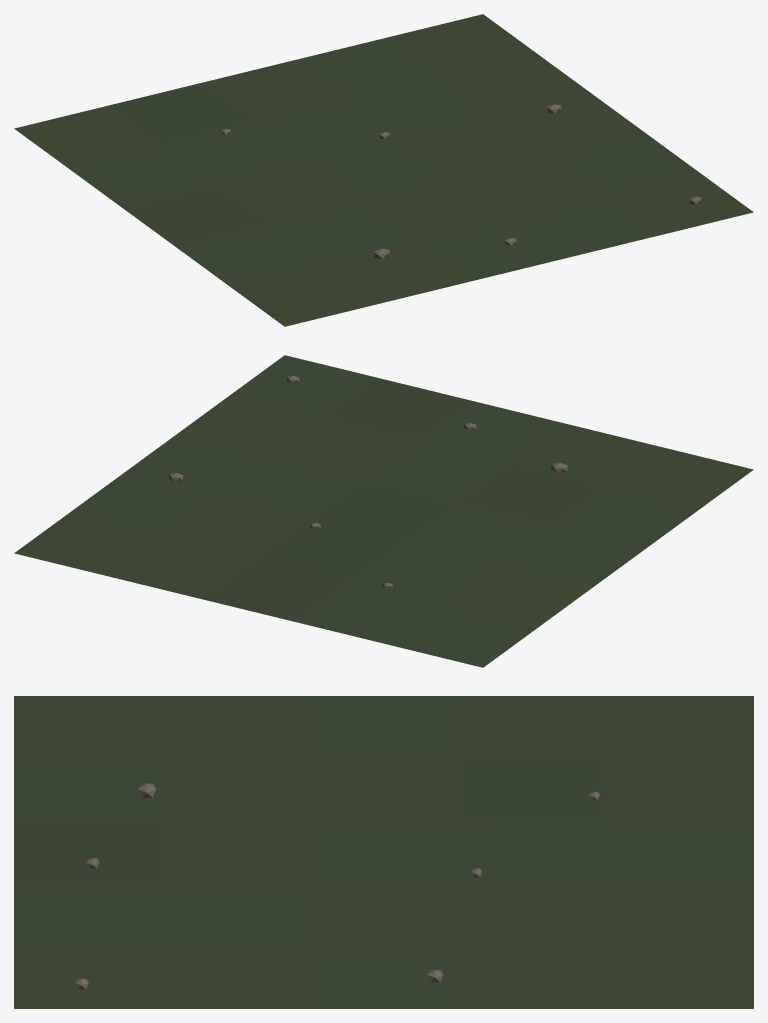
File: V_Terre.glb
3 views of the same model, one above another, from view 1: azimuth 30°, elevation 25°; view 2: azimuth 150°, elevation 25°; view 3: azimuth 270°, elevation 25° (orthographic). The views are drawn at different scales.
Parts seen in each view (by area): view 1: V_Terre; view 2: V_Terre; view 3: V_Terre.
Part boxes in pixels (x1,y1,x2,y2): V_Terre: [14, 14, 753, 326]; V_Terre: [14, 355, 753, 667]; V_Terre: [14, 696, 753, 1008].
Bounding box in the file's own units: 8 × 0.1635 × 8.
